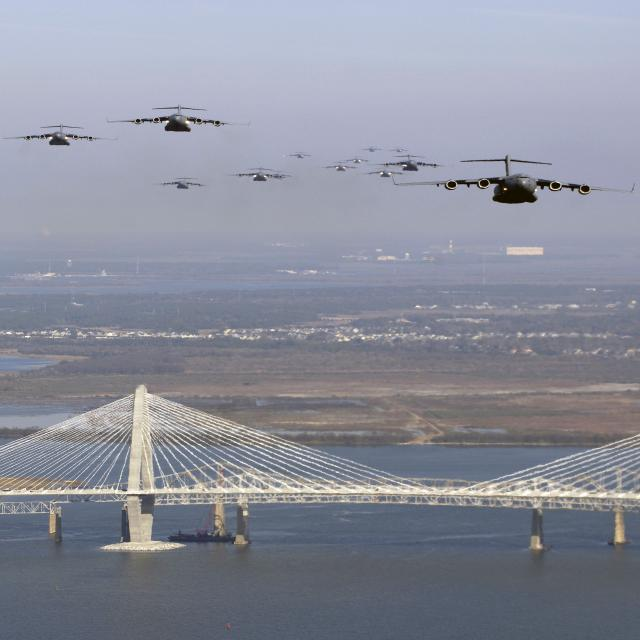MIL_Plane: (69, 104, 210, 132), (3, 124, 118, 146), (391, 176, 635, 183), (366, 154, 454, 171), (223, 129, 297, 143), (148, 177, 212, 189), (357, 167, 414, 177), (268, 132, 294, 141), (284, 151, 317, 158), (339, 156, 367, 164), (360, 146, 383, 152), (388, 147, 410, 153), (337, 161, 343, 171)
